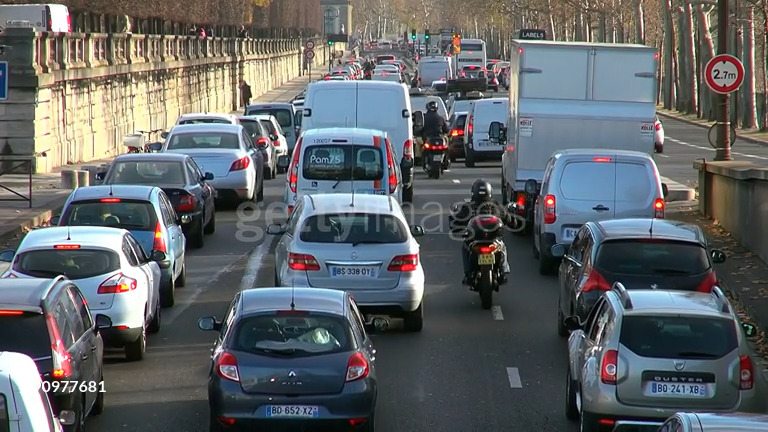car_number: (649, 382, 707, 397), (266, 405, 318, 417), (330, 266, 376, 277)
